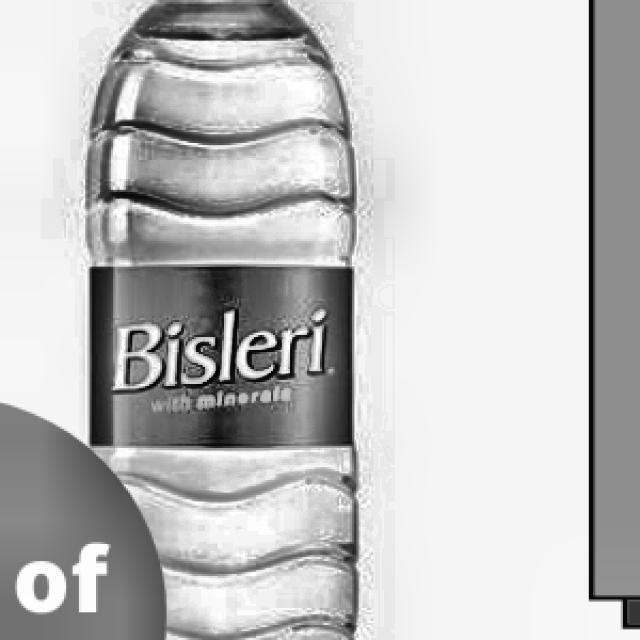bottle: (85, 0, 369, 640)
